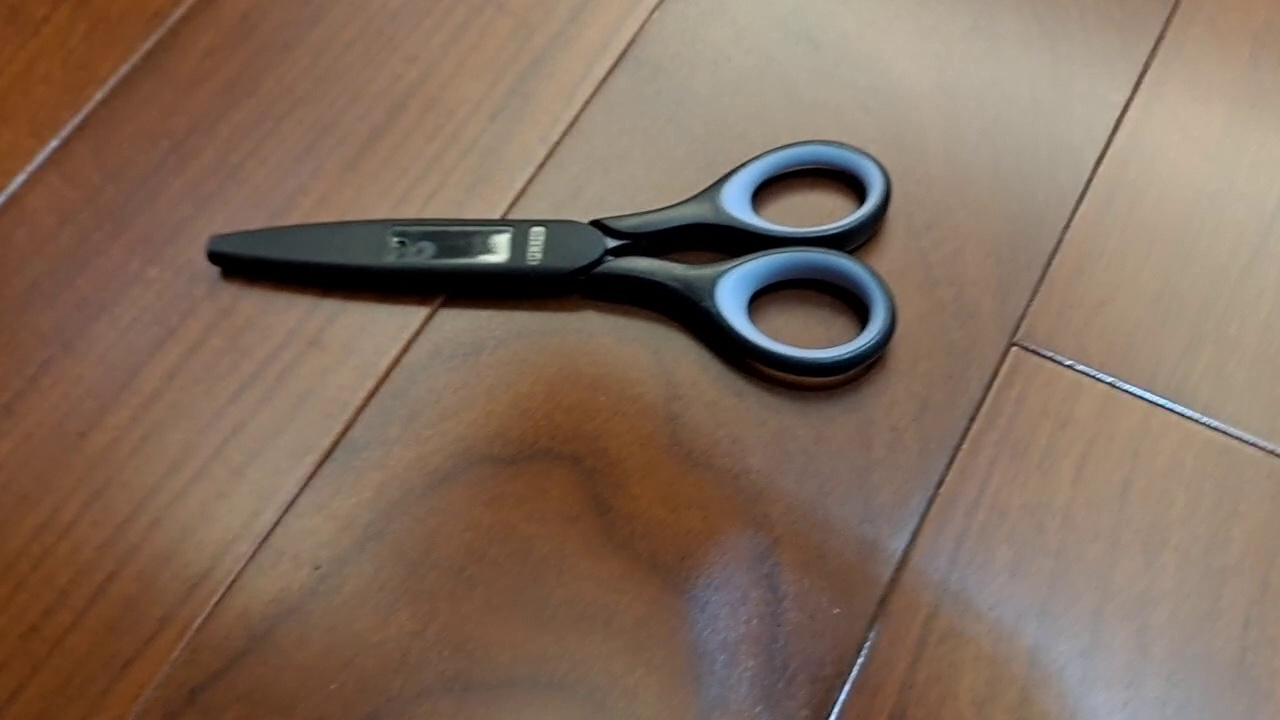scissors: (203, 136, 899, 380)
